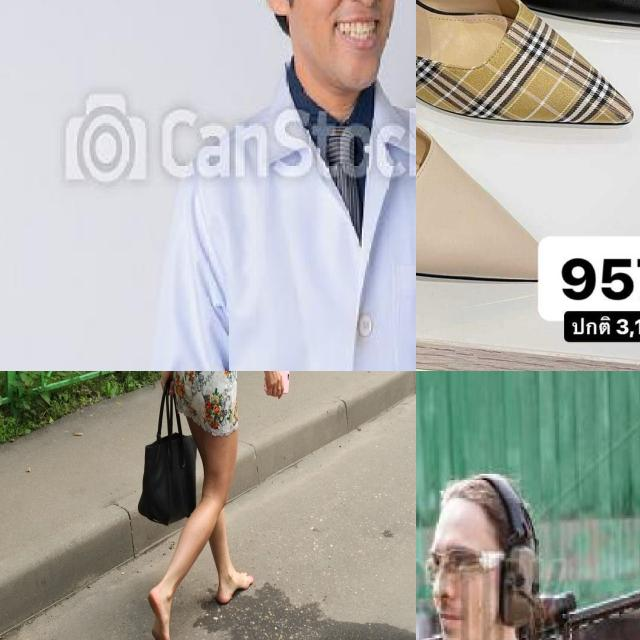Barefoots: (148, 586, 171, 640), (216, 572, 254, 604)
Sandals: (416, 0, 584, 334), (416, 0, 640, 148)
face_nomask: (424, 544, 484, 636), (301, 0, 405, 52)
glasses: (422, 543, 505, 585)
head_nohelmet: (425, 465, 522, 520)
person: (161, 0, 416, 371), (416, 476, 619, 640)
